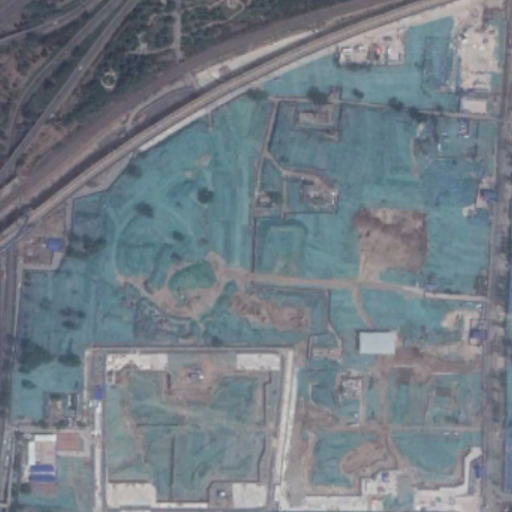cw: (6, 14, 512, 512)
